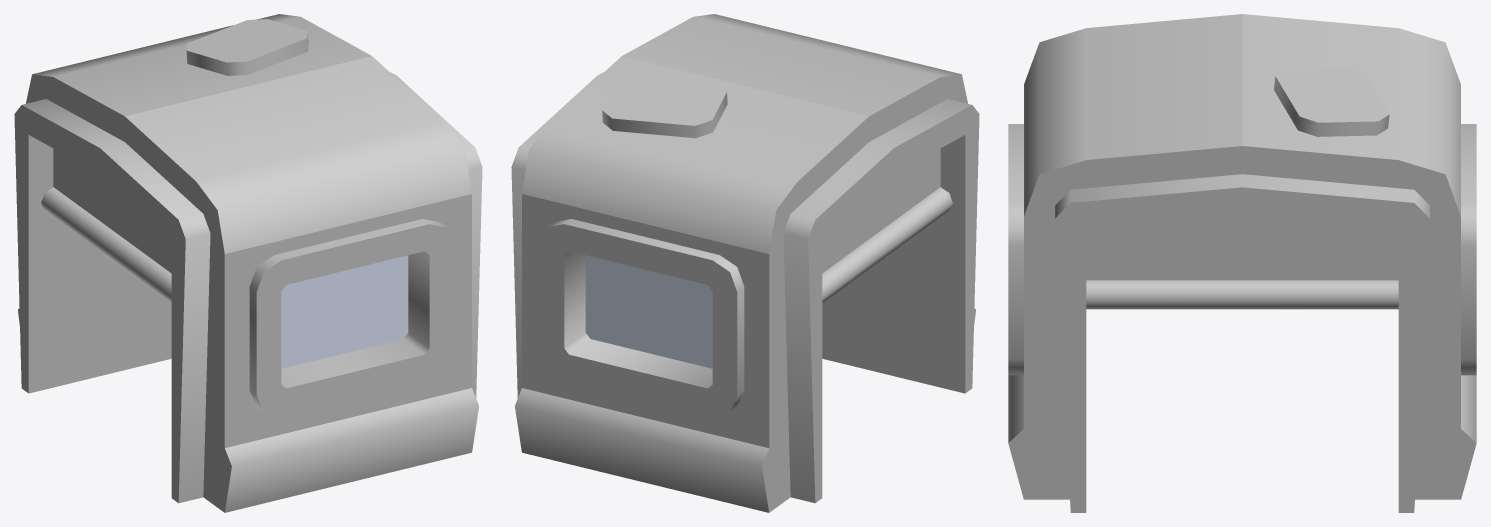
The model's file is machine-window.obj.
3 views of the same model, side by side, from view 1: azimuth 30°, elevation 25°; view 2: azimuth 150°, elevation 25°; view 3: azimuth 270°, elevation 25° (orthographic). The views are drawn at different scales.
Parts seen in each view (by area): view 1: machine-window; view 2: machine-window; view 3: machine-window.
Boxes of the visible parts, left/top/right/bottom form: machine-window: left=14, top=14, right=482, bottom=512; machine-window: left=511, top=14, right=979, bottom=512; machine-window: left=1008, top=14, right=1476, bottom=512.
Bounding box in the file's own units: 1.2 × 1.29 × 1.5.
